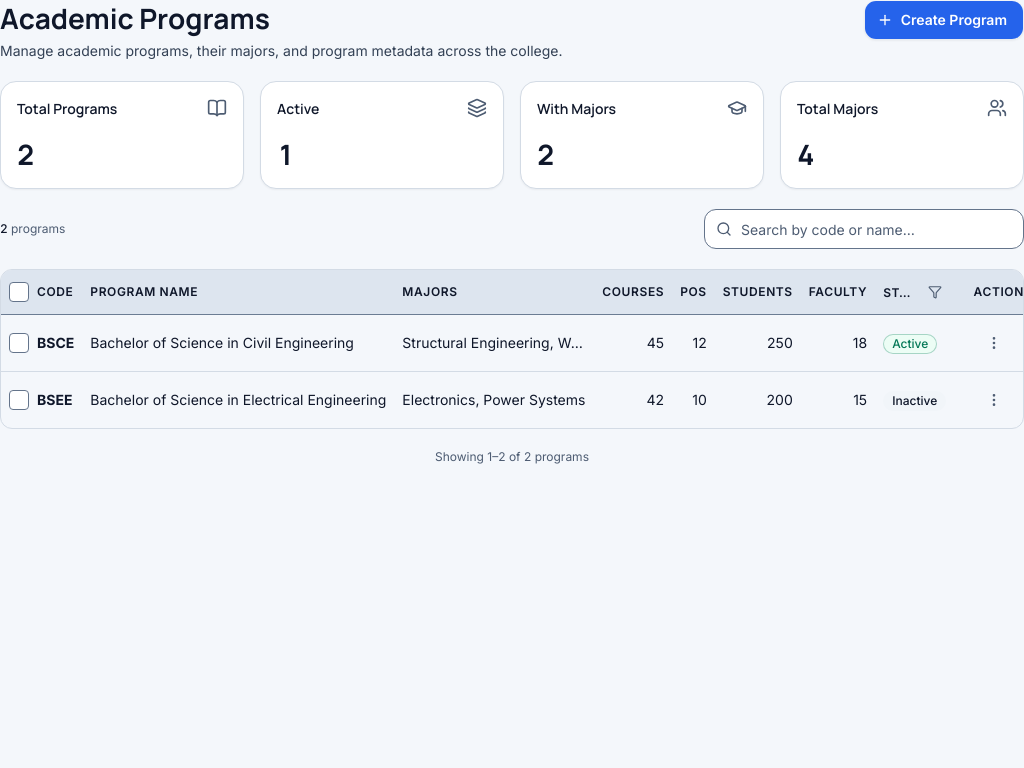
Test: SecretaryProgramsList › opens the create dialog from the CTA
Click the button "Create Program": (944, 20) [864,0,1023,40]
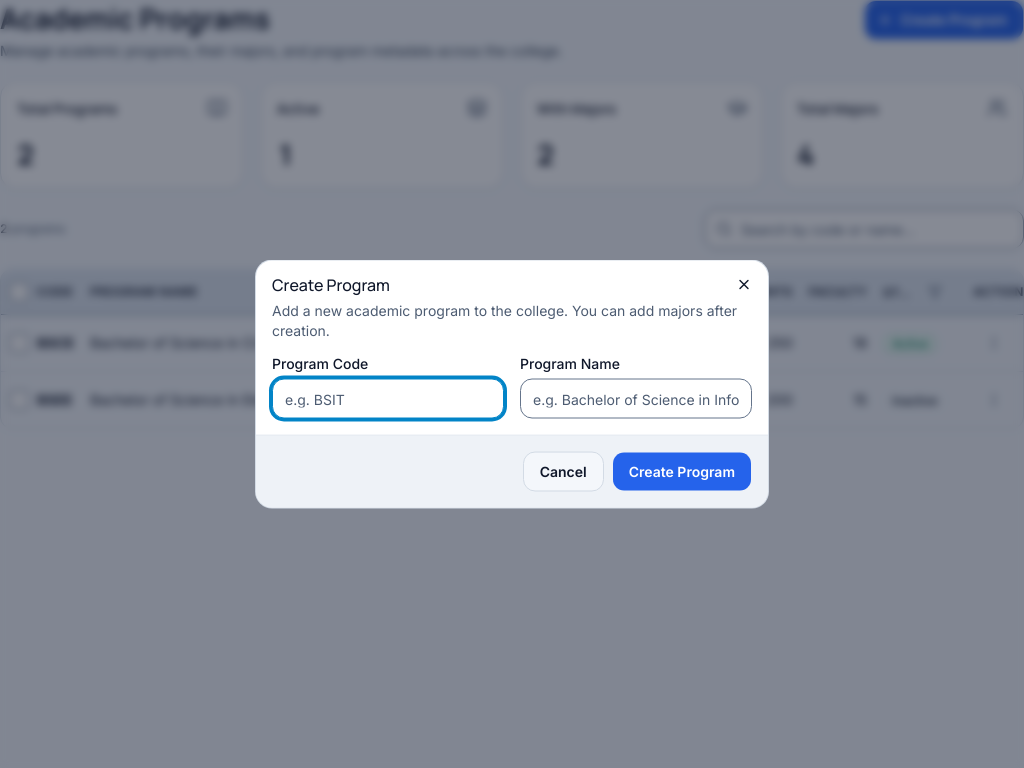
expect the heading "Create Program" is shown: met, box [272,274,390,296]
expect the field labelled "Program Code" is shown: met, box [272,378,504,418]
expect the field labelled "Program Name" is shown: met, box [520,378,752,418]
